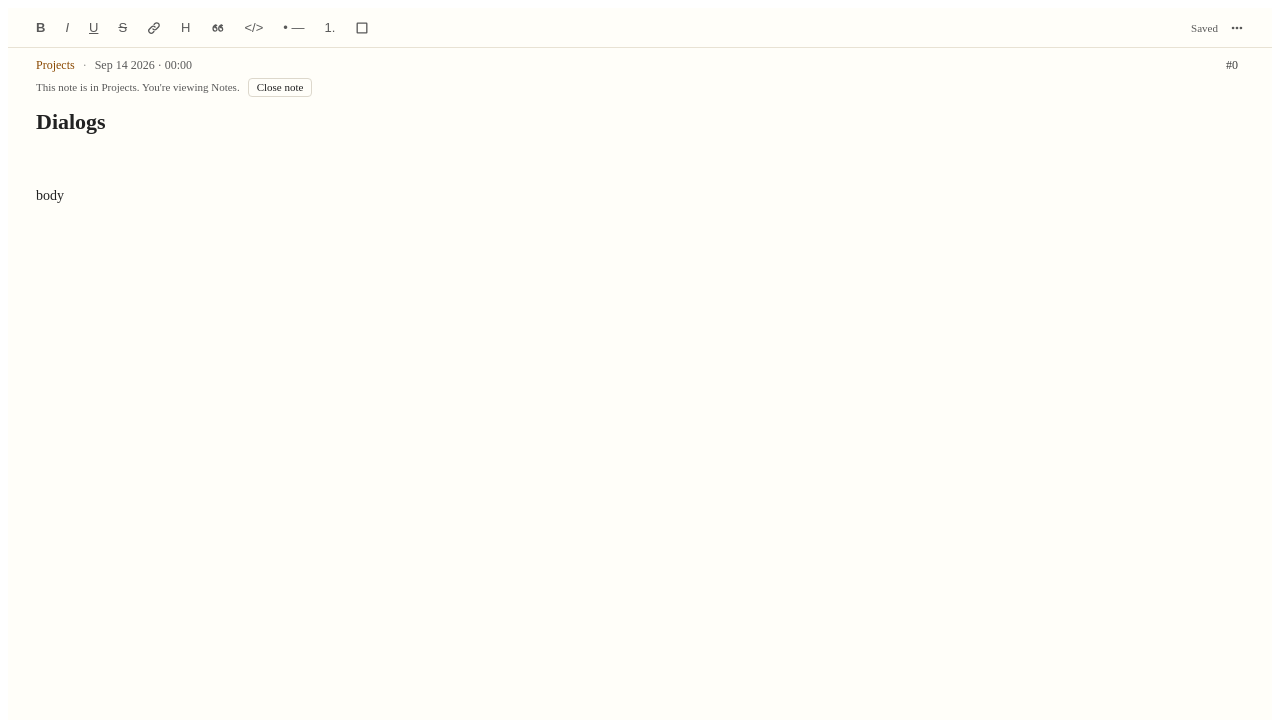
Test case: connections graph › opens as a Modal titled Note graph
The width and height of the screenshot is (1280, 720).
Click the button named "Note actions": (1237,28) [1222,16,1252,38]
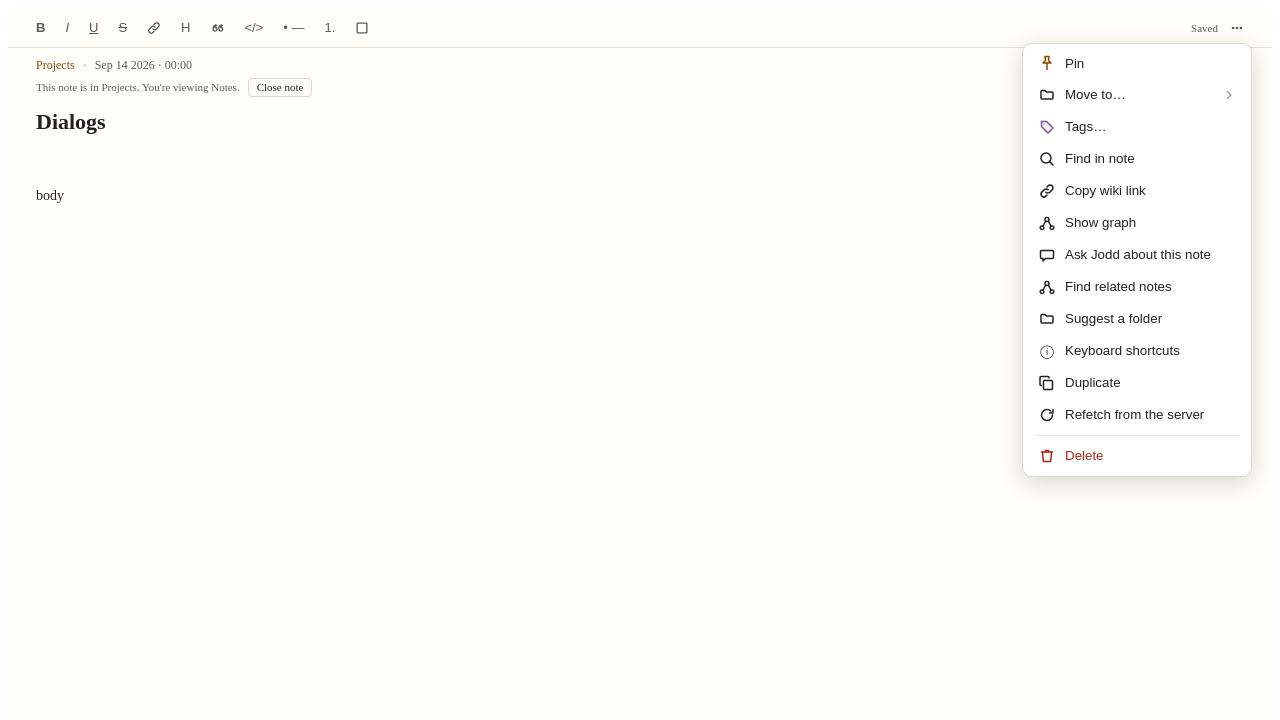
Click the menu item "Show graph": (1137,223) [1027,207,1247,239]
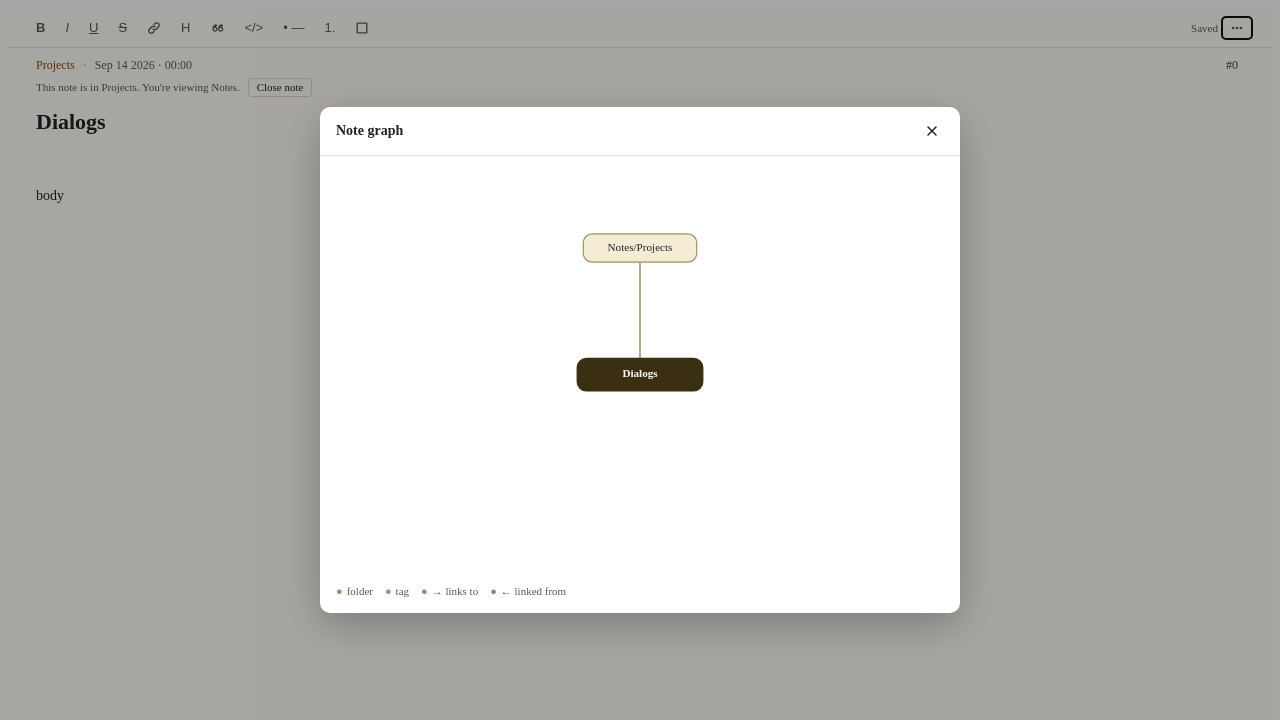
Check: the heading "Note graph" is shown, box [336,123,403,138]
Check: the icon with class "graph-svg" is shown, box [336,172,944,577]
